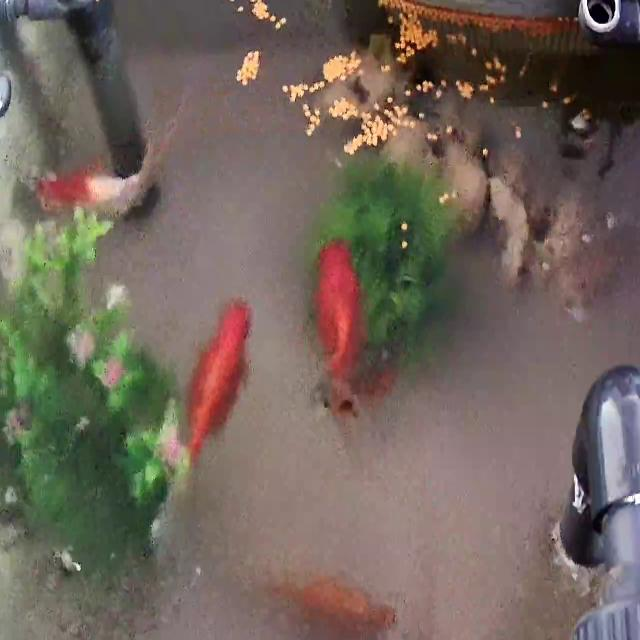fish: (30, 148, 186, 229), (308, 236, 377, 409), (183, 300, 252, 473), (264, 572, 368, 635)
